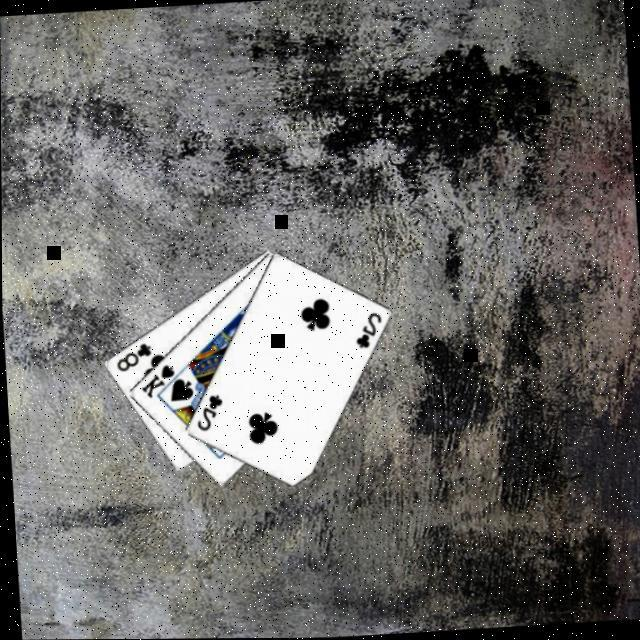2C: (348, 309, 382, 351), (190, 391, 223, 434)
8C: (109, 340, 152, 374)
KS: (134, 360, 176, 400)
